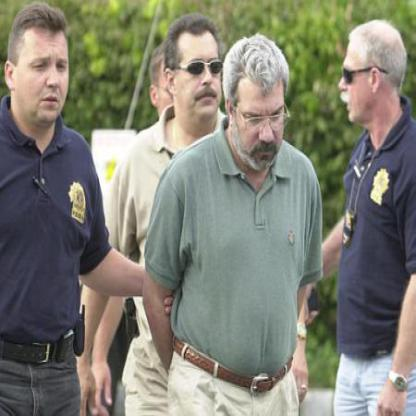face: (15, 8, 76, 129), (233, 49, 289, 172), (175, 18, 227, 124)
